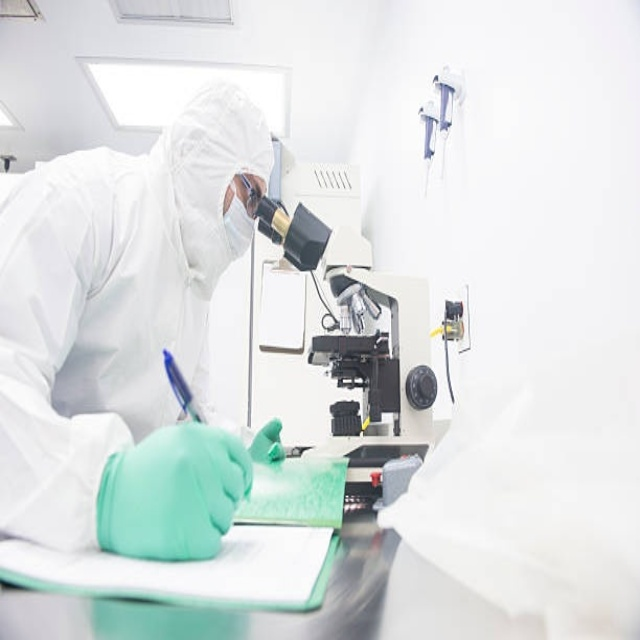Gafas: (240, 173, 260, 211)
Guantes: (97, 419, 265, 562), (248, 417, 286, 465)
Mascara: (221, 178, 259, 261)
